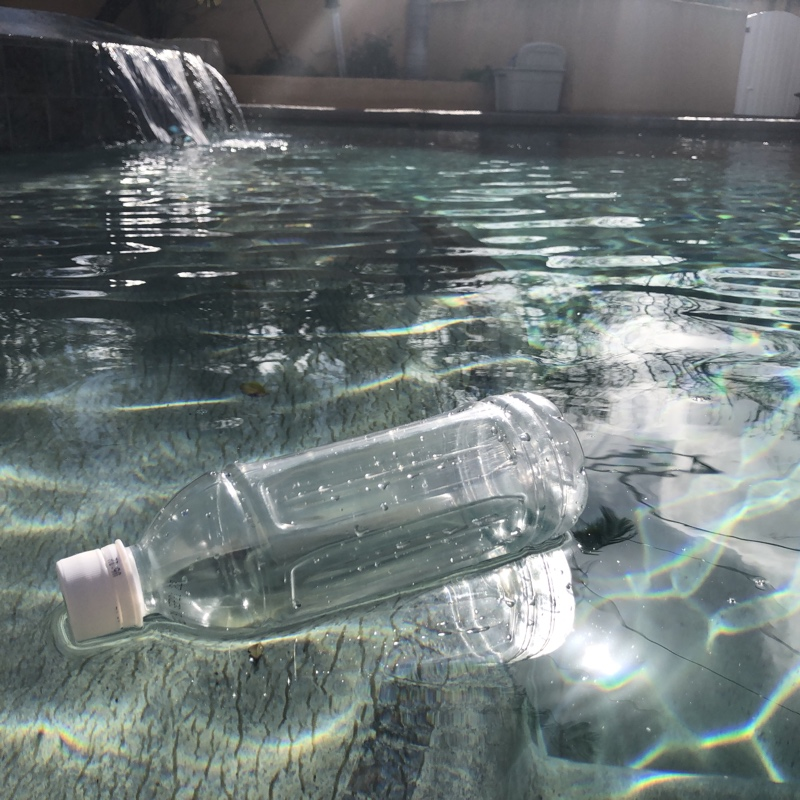Plastic Bottle: (49, 384, 592, 671)
